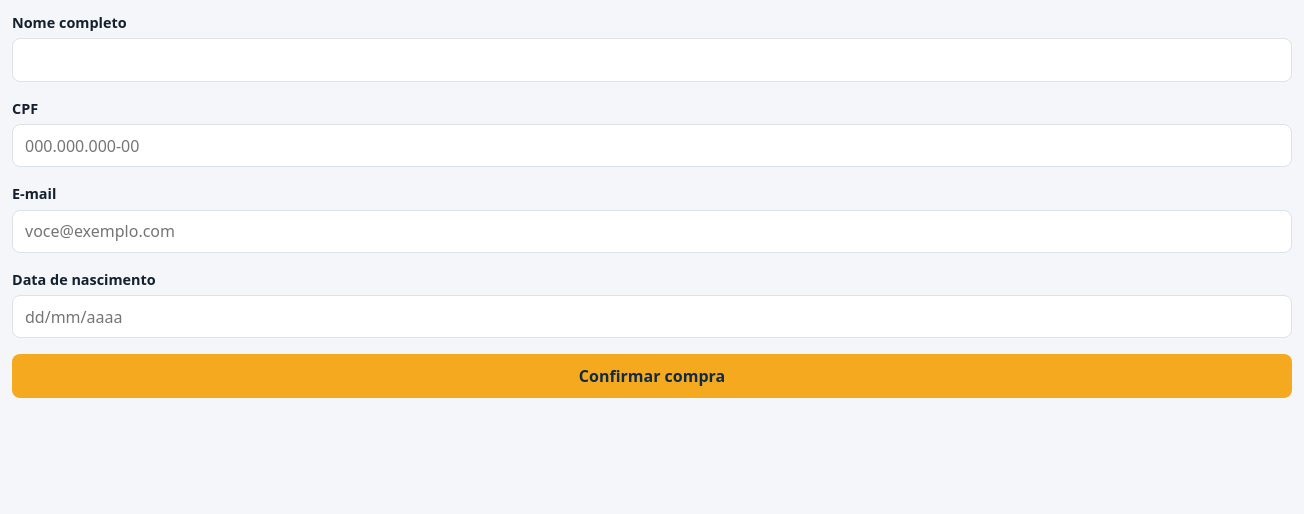
Scenario: PassengerForm › clears a field error once the user fixes it
The image size is (1304, 514).
Click the button "Confirmar compra" at coordinates (652, 376), box [12,354,1292,398]
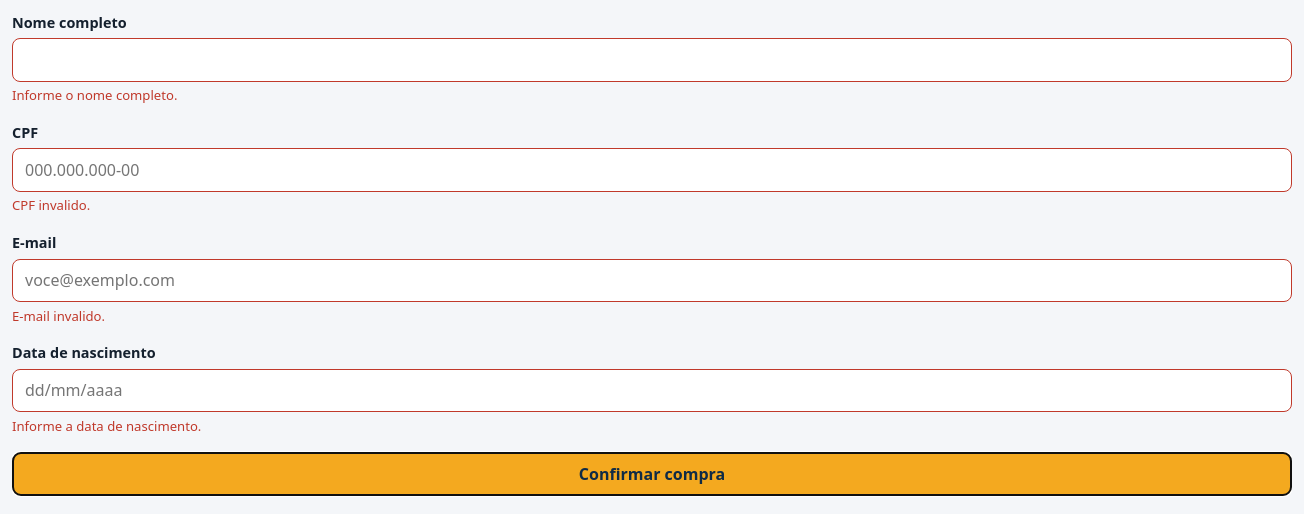
Expected: the text "E-mail invalido." is shown, [12,306,105,324]
Type "ana@exemplo.com" into the field labelled "E-mail" at coordinates (652, 280), box [12,259,1292,302]
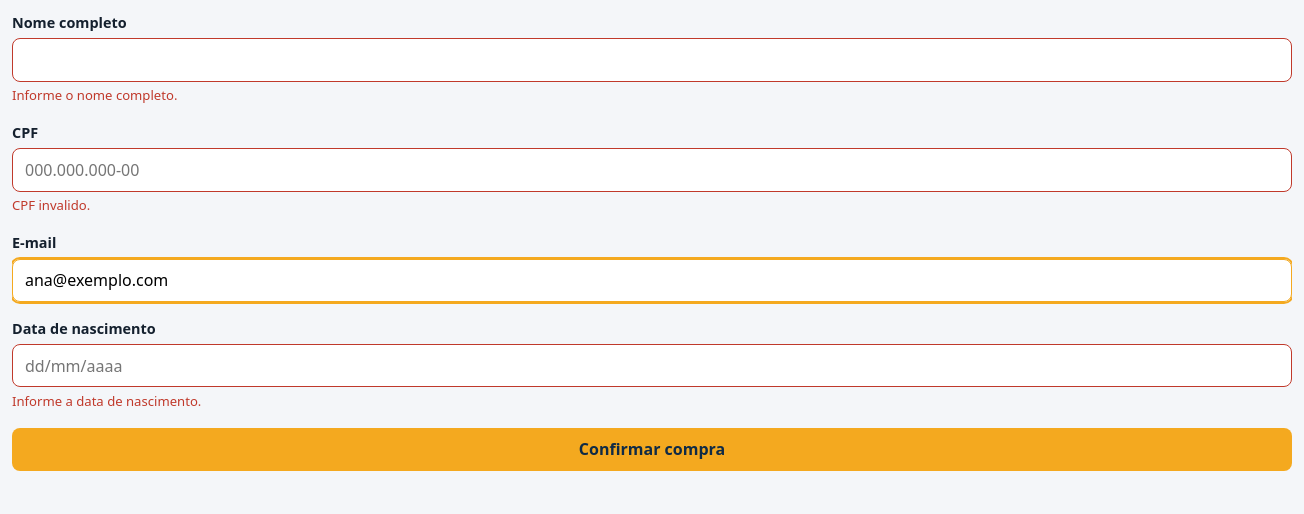
Expected: the text "E-mail invalido." is gone
